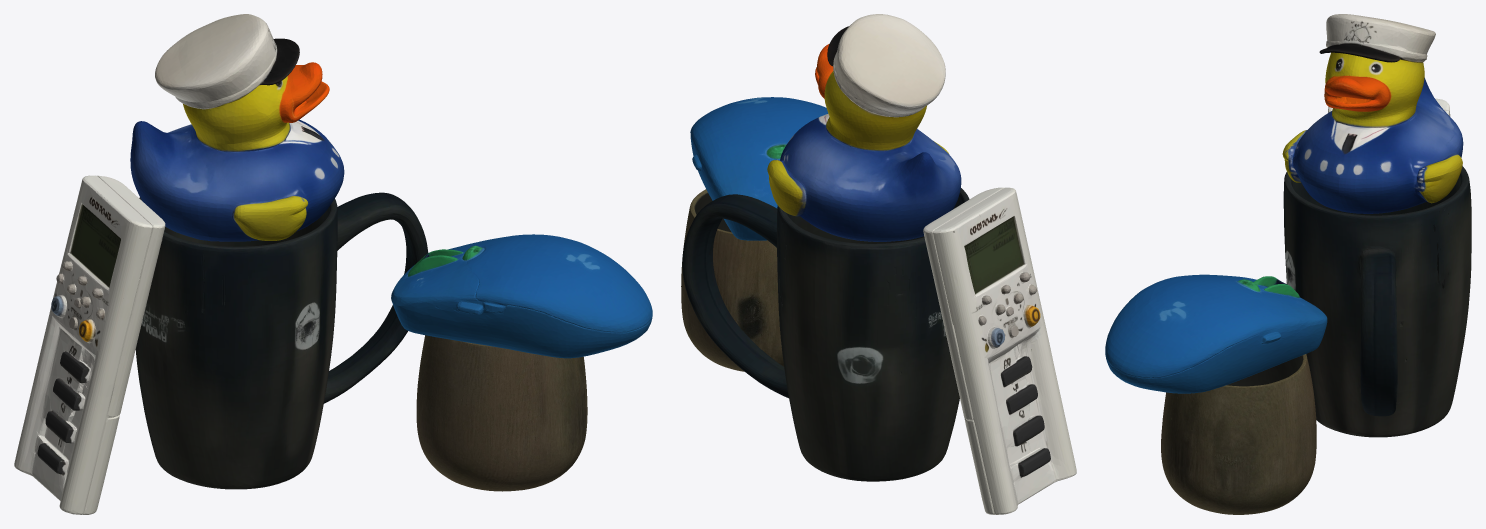
The model's file is phi-scene.glb.
3 views of the same model, side by side, from view 1: azimuth 30°, elevation 25°; view 2: azimuth 150°, elevation 25°; view 3: azimuth 270°, elevation 25° (orthographic). The views are drawn at different scales.
Parts seen in each view (by area): view 1: object_04, object_03, object_01, object_00, object_02; view 2: object_04, object_01, object_03, object_00, object_02; view 3: object_04, object_03, object_00, object_02.
Part boxes in pixels (<box>): object_04: <box>135,192,428,489</box>; object_03: <box>130,14,344,241</box>; object_01: <box>14,175,165,514</box>; object_00: <box>391,234,652,358</box>; object_02: <box>416,335,587,491</box>; object_04: <box>682,188,969,481</box>; object_01: <box>923,187,1076,514</box>; object_03: <box>767,14,961,241</box>; object_00: <box>690,97,828,240</box>; object_02: <box>681,189,783,371</box>; object_04: <box>1283,166,1471,437</box>; object_03: <box>1282,14,1463,213</box>; object_00: <box>1105,274,1327,393</box>; object_02: <box>1161,354,1316,514</box>.
Size of the model in its own units: 1.06 by 0.9199 by 0.7637.
5 materials, 5 textured.
